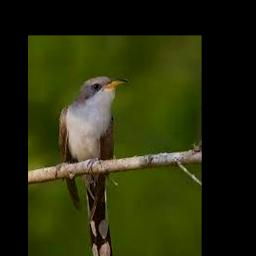Cuckoo: (60, 77, 130, 256)
